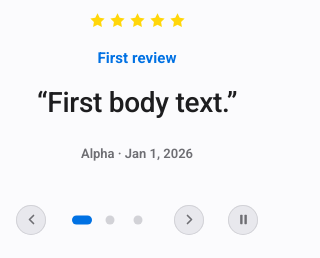
Test: ReviewsCarousel › jumps to a specific review via the position dots
The image size is (320, 258).
Click the tab named "Review 3".
click(138, 220)  # box [125, 198, 151, 242]
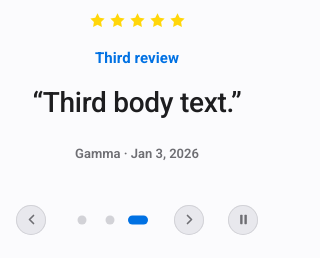
Result: the heading reads "Third review" at [95, 49, 179, 67]
